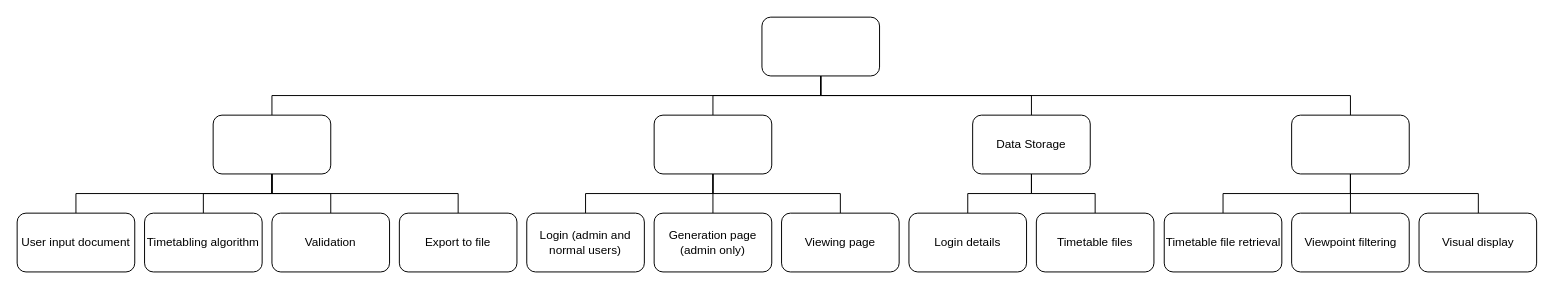
Some shapes in this 1554 by 289 pixel diagram are drawn without their labels. Here are the shapes that lost their labels. From the top down, the centre of each, then its label:
At (x=820, y=46): "Timetable management system".
At (x=271, y=144): "Timetable generator".
At (x=712, y=144): "Website".
At (x=1350, y=144): "Timetable viewer".
